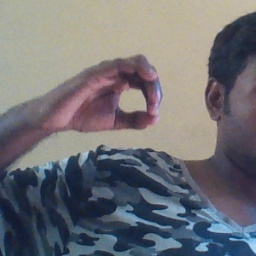O: (53, 52, 167, 135)
